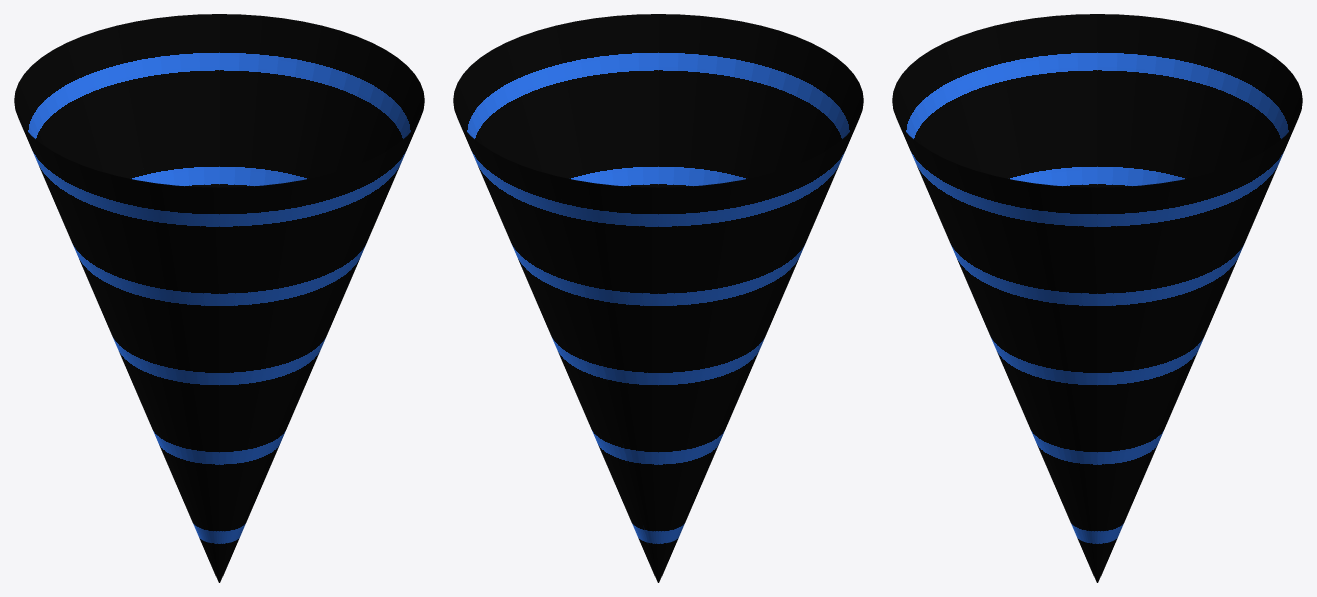
Rendered from Display_Lifter.fbx.
3 views of the same model, side by side, from view 1: azimuth 30°, elevation 25°; view 2: azimuth 150°, elevation 25°; view 3: azimuth 270°, elevation 25° (orthographic).
Parts seen in each view (by area): view 1: pCylinder1; view 2: pCylinder1; view 3: pCylinder1.
Part boxes in pixels (box(x1,y1,x2,y2)): pCylinder1: box(14, 14, 424, 582); pCylinder1: box(453, 14, 863, 582); pCylinder1: box(892, 14, 1302, 582).
Bounding box in the file's own units: 0.497 × 0.6436 × 0.497.
1 material, 1 textured.
